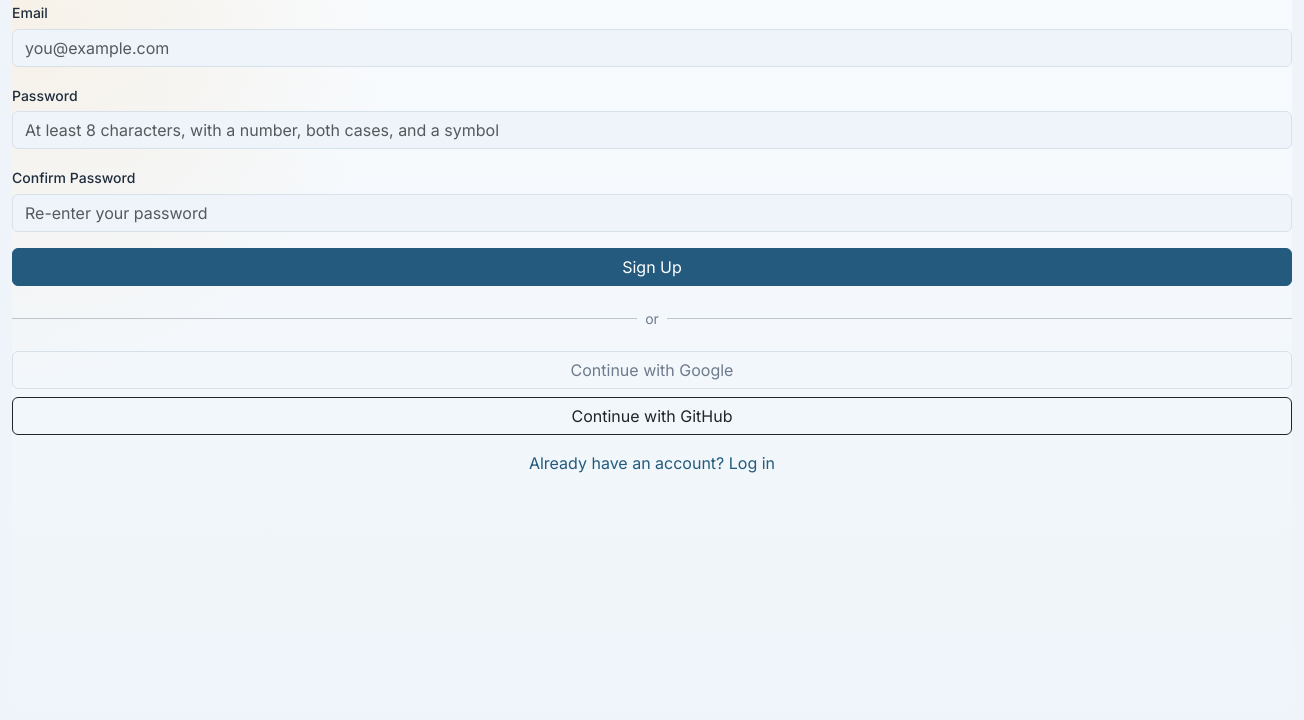
Test: SignupForm › shows validation errors when fields are empty and submitted
What coordinates should you click on to do the following:
click the button "Sign Up"
I would click on:
 (652, 267)
Its box is [12,248,1292,286].
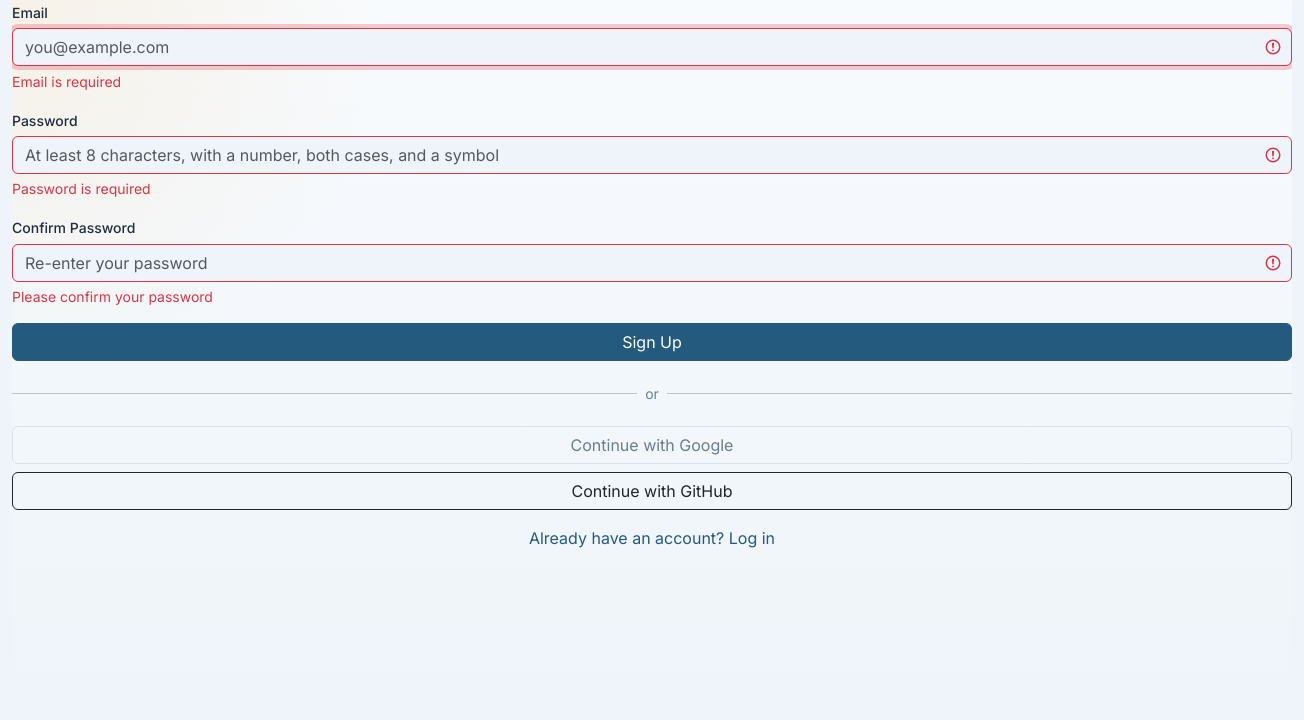
Check: the text "Email is required" is shown 2 times, box [12,73,121,90]; [12,180,151,197]
